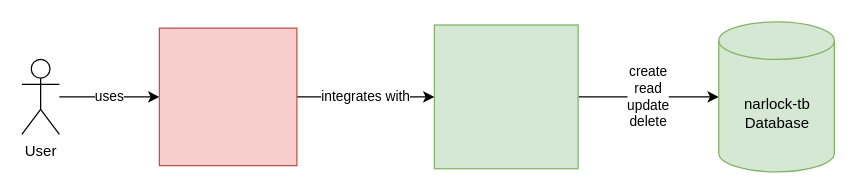
Image size: 856x194. Some labels were removed from this diagram. The centre of each missing label's shape, as x and y in pixels:
"Frontend Application" belongs at point (227, 96).
"Simple Time Block API" belongs at point (505, 96).
